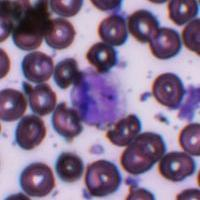N: (70, 72, 126, 127)
